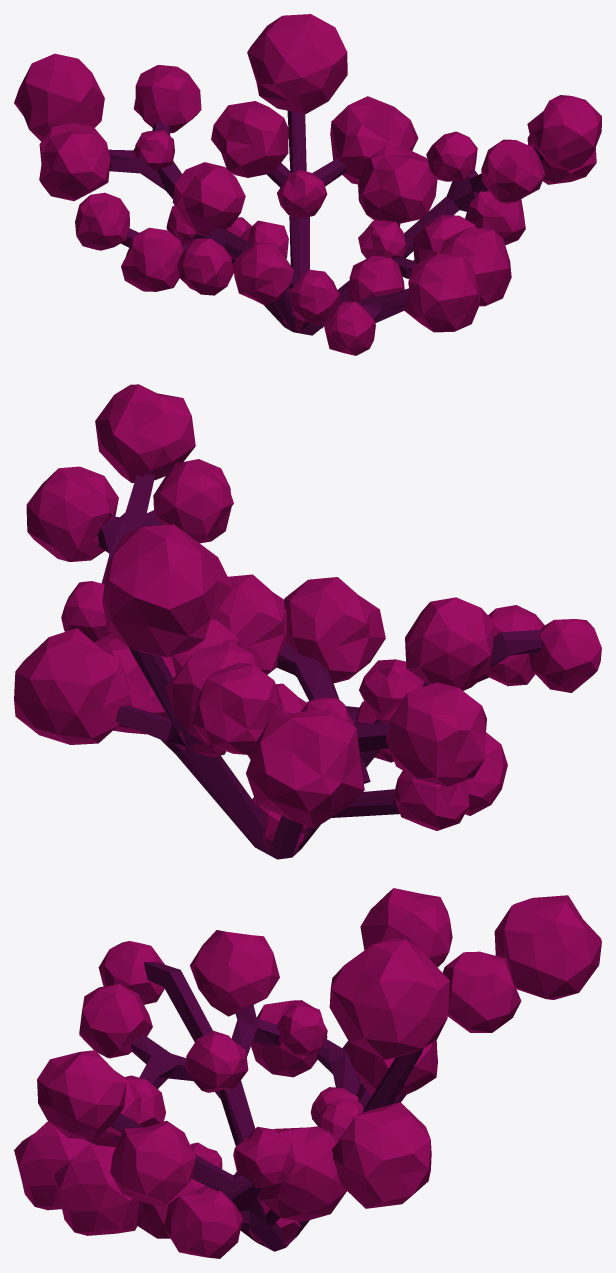
The model's file is bush_low_poly.glb.
3 renders of one model, top to bottom at view 1: azimuth 30°, elevation 25°; view 2: azimuth 150°, elevation 25°; view 3: azimuth 270°, elevation 25°, orthographic. The views are drawn at different scales.
Visible parts, largest first — view 1: Cube, Icosphere002, Icosphere005, Icosphere018, Icosphere016, Icosphere001, Icosphere006, Icosphere, Icosphere023, Icosphere009, Icosphere004, Icosphere015 (+17 smaller); view 2: Cube, Icosphere002, Icosphere005, Icosphere, Icosphere006, Icosphere016, Icosphere023, Icosphere009, Icosphere022, Icosphere004, Icosphere021, Icosphere015 (+10 smaller); view 3: Cube, Icosphere002, Icosphere005, Icosphere, Icosphere023, Icosphere009, Icosphere022, Icosphere015, Icosphere018, Icosphere004, Icosphere006, Icosphere020 (+13 smaller).
Boxes of the visible parts, left/top/right/bottom form: Cube: left=108, top=110, right=544, bottom=335; Icosphere002: left=247, top=14, right=347, bottom=113; Icosphere005: left=14, top=53, right=104, bottom=141; Icosphere018: left=358, top=146, right=437, bottom=223; Icosphere016: left=404, top=253, right=480, bottom=332; Icosphere001: left=211, top=101, right=288, bottom=177; Icosphere006: left=39, top=122, right=110, bottom=201; Icosphere: left=330, top=96, right=418, bottom=184; Icosphere023: left=527, top=95, right=601, bottom=170; Icosphere009: left=172, top=162, right=245, bottom=236; Icosphere004: left=133, top=65, right=201, bottom=133; Icosphere015: left=440, top=227, right=511, bottom=306; Cube: left=97, top=474, right=542, bottom=859; Icosphere002: left=102, top=524, right=232, bottom=657; Icosphere005: left=246, top=708, right=364, bottom=828; Icosphere: left=14, top=628, right=130, bottom=744; Icosphere006: left=385, top=682, right=486, bottom=786; Icosphere016: left=284, top=577, right=385, bottom=683; Icosphere023: left=95, top=384, right=195, bottom=483; Icosphere009: left=405, top=597, right=495, bottom=690; Icosphere022: left=26, top=466, right=118, bottom=561; Icosphere004: left=192, top=662, right=283, bottom=754; Icosphere021: left=153, top=459, right=233, bottom=543; Icosphere015: left=211, top=574, right=287, bottom=674; Cube: left=110, top=962, right=423, bottom=1251; Icosphere002: left=329, top=938, right=449, bottom=1059; Icosphere005: left=494, top=895, right=601, bottom=999; Icosphere: left=332, top=1102, right=431, bottom=1208; Icosphere023: left=37, top=1050, right=126, bottom=1139; Icosphere009: left=190, top=930, right=279, bottom=1016; Icosphere022: left=110, top=1120, right=195, bottom=1206; Icosphere015: left=53, top=1143, right=138, bottom=1235; Icosphere018: left=258, top=1126, right=346, bottom=1221; Icosphere004: left=442, top=951, right=521, bottom=1032; Icosphere006: left=360, top=888, right=452, bottom=967; Icosphere020: left=164, top=1186, right=242, bottom=1258.
Bounding box in the file's own units: 69.01 × 39.49 × 65.31.
